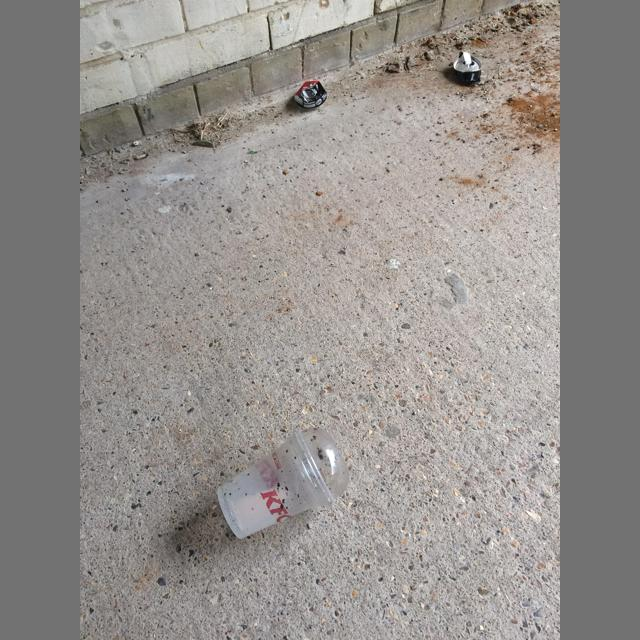litter: (217, 430, 336, 539), (290, 427, 350, 511), (294, 81, 327, 110), (454, 56, 482, 85)
